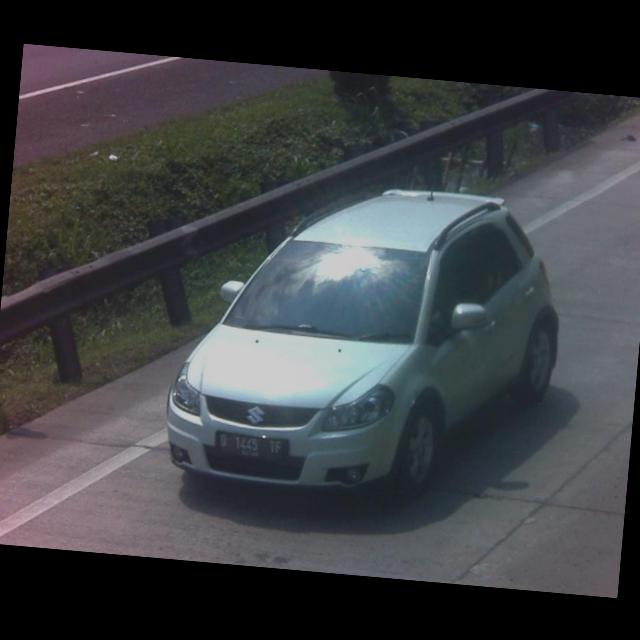plate: (213, 429, 287, 463)
